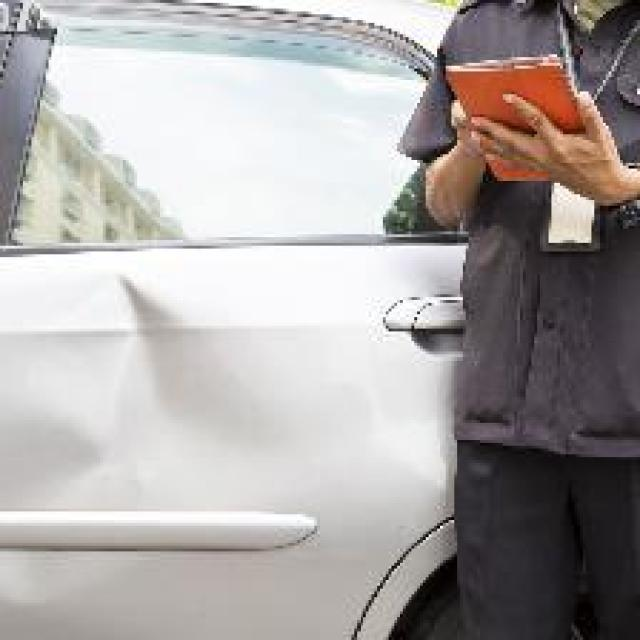door_dent_minor: (46, 274, 166, 497)
